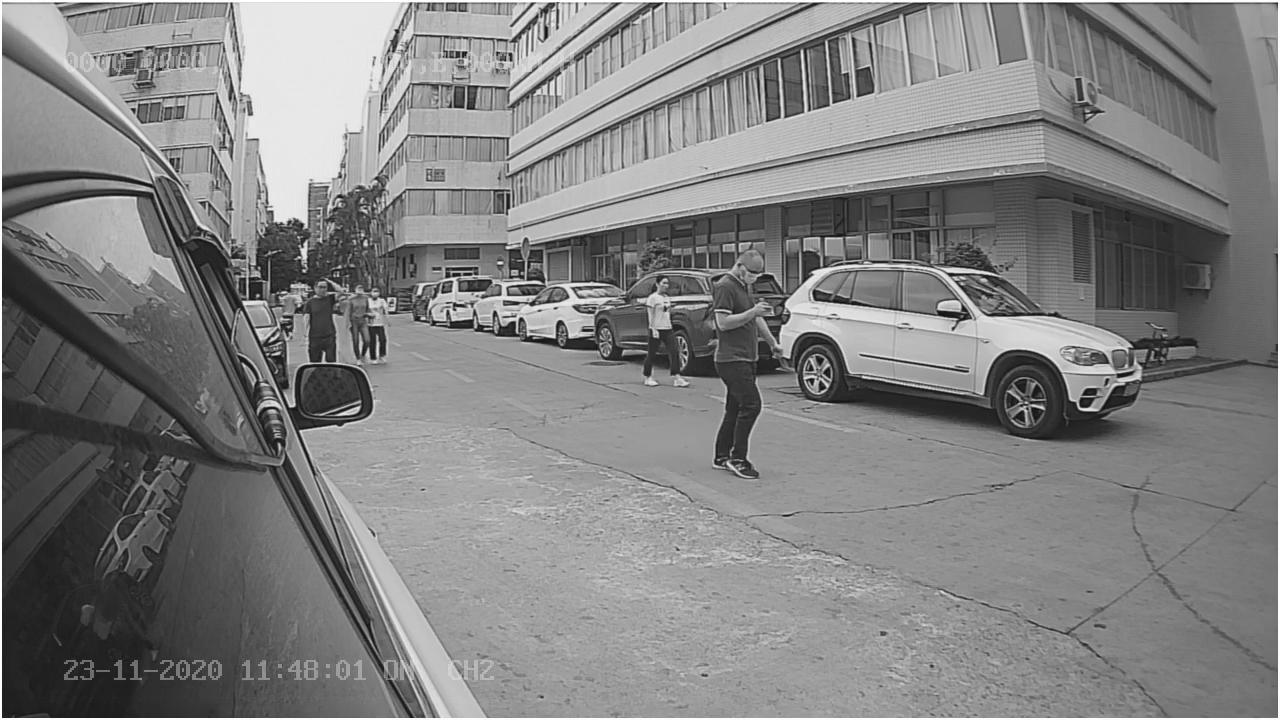person: (706, 237, 780, 480), (642, 270, 690, 391)
